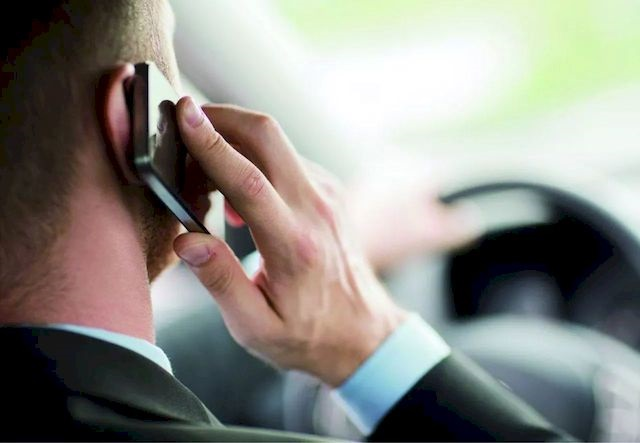phone: (123, 53, 252, 262)
